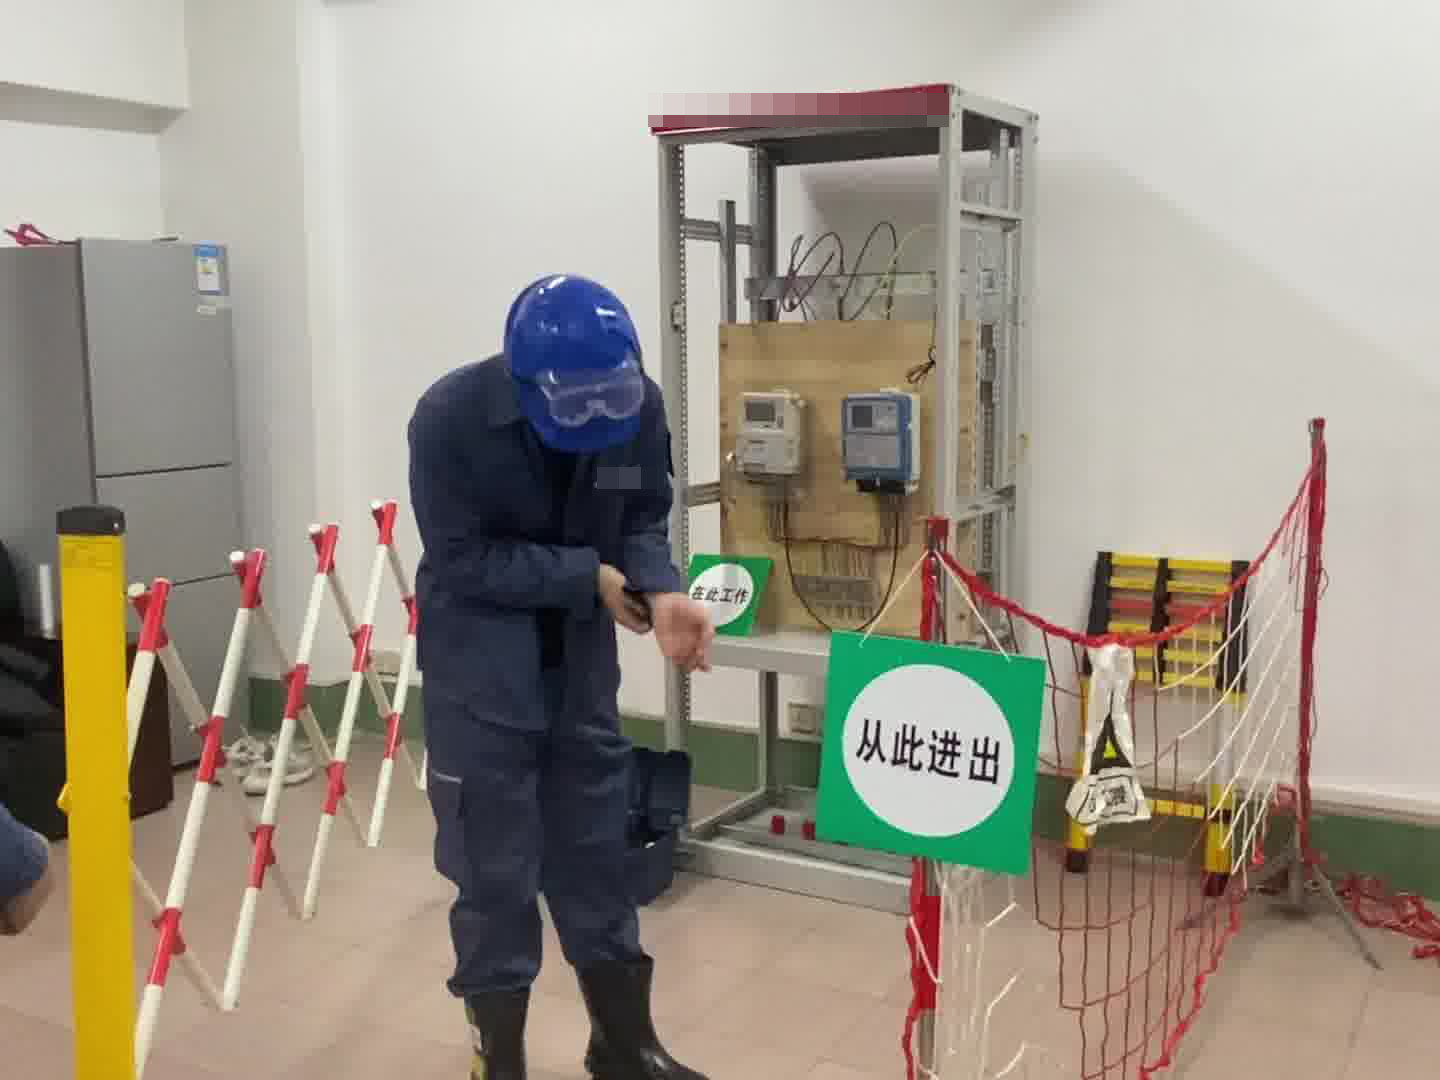downsuit: (415, 612, 655, 995)
halt: (502, 273, 649, 439)
hand: (653, 584, 711, 667), (592, 567, 654, 635)
intosign: (812, 628, 1045, 881)
person: (386, 267, 713, 1080)
shoe: (447, 956, 705, 1080)
upsuit: (401, 352, 680, 610)
worksign: (682, 557, 767, 637)
wrongsuit: (519, 436, 606, 730)
